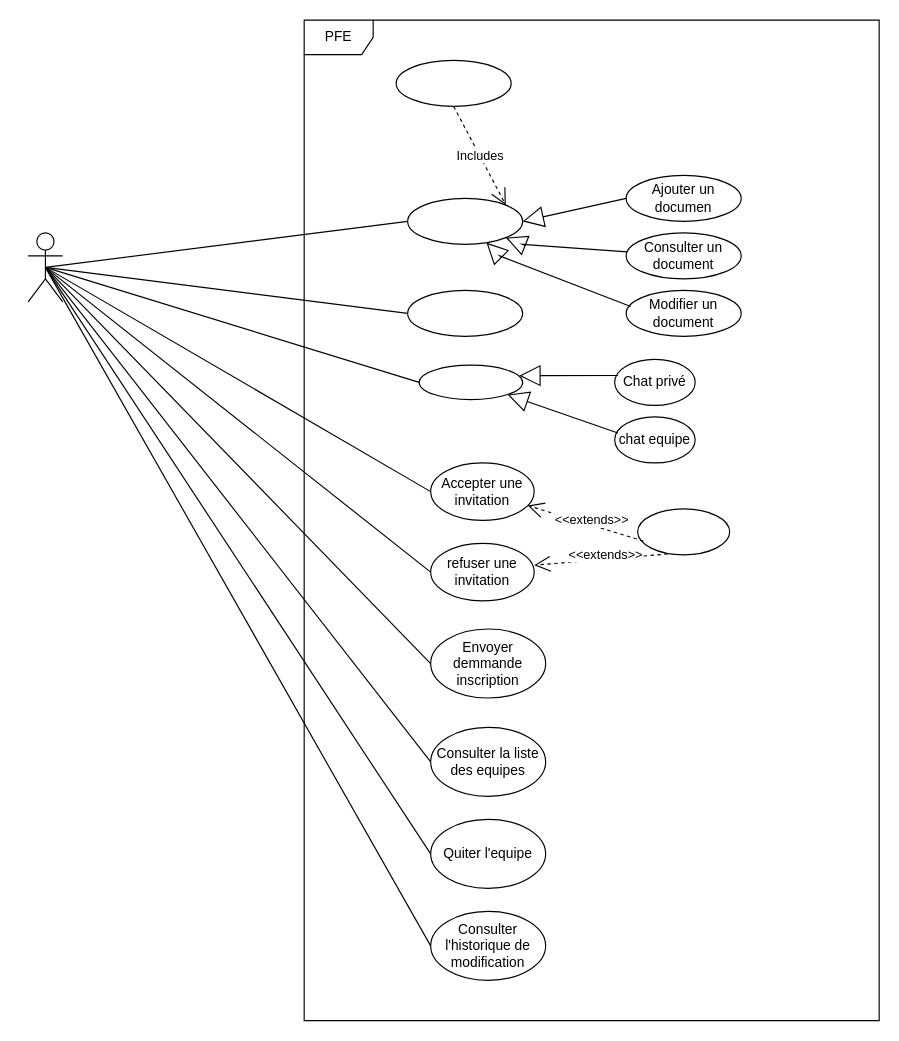
Some shapes in this 899 by 1041 pixel diagram are drawn without their labels. The shapes that lost their labels are listed below. From the top down, each one's box as (x1, y1, x2, y2) in pixels, then its label:
(395, 59, 511, 106): S'authentififier
(407, 197, 523, 244): Manipuler un document
(27, 232, 63, 302): Etudiant
(407, 289, 523, 336): Participer au sondage
(418, 364, 523, 400): Echanger
(637, 508, 730, 555): Indiquer la raison
